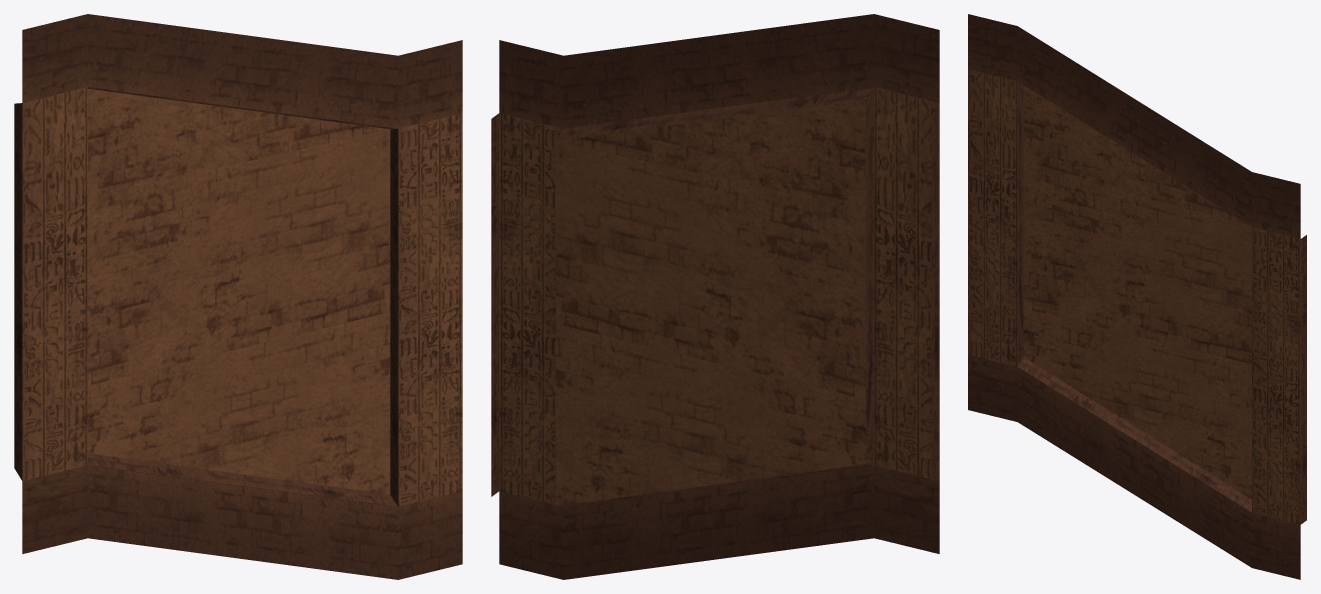
The model's file is Wall_Stairs_01.fbx.
3 renders of one model, left to right at view 1: azimuth 30°, elevation 25°; view 2: azimuth 150°, elevation 25°; view 3: azimuth 330°, elevation 25°, orthographic. The views are drawn at different scales.
Visible parts, largest first — view 1: Wall_Stairs_01; view 2: Wall_Stairs_01; view 3: Wall_Stairs_01.
Boxes of the visible parts, bbox=[...] form: Wall_Stairs_01: bbox=[14, 14, 462, 579]; Wall_Stairs_01: bbox=[491, 14, 939, 579]; Wall_Stairs_01: bbox=[968, 14, 1306, 579].
Bounding box in the file's own units: 116 × 162 × 3.69.
